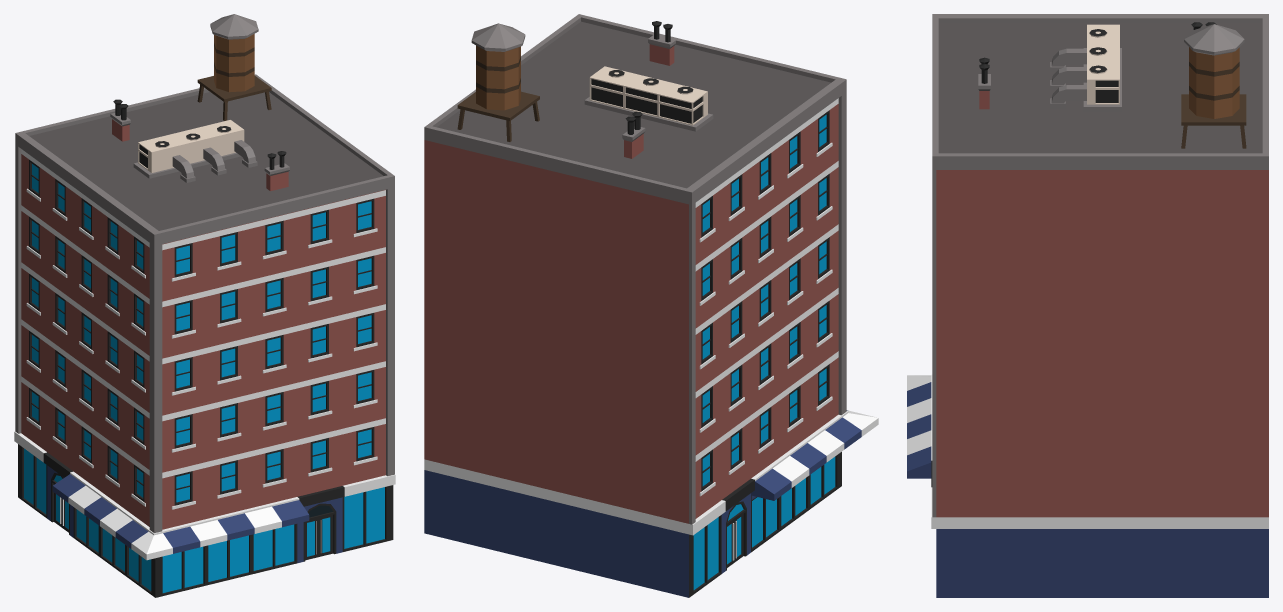
The model's file is Building_28.fbx.
3 renders of one model, left to right at view 1: azimuth 30°, elevation 25°; view 2: azimuth 150°, elevation 25°; view 3: azimuth 270°, elevation 25°, orthographic. The views are drawn at different scales.
Visible parts, largest first — view 1: building-block-5floor-corner, building-block-5floor-corner.001; view 2: building-block-5floor-corner, building-block-5floor-corner.001; view 3: building-block-5floor-corner, building-block-5floor-corner.001.
Boxes of the visible parts, x1=… form: building-block-5floor-corner: x1=15, y1=14, x2=394, y2=421; building-block-5floor-corner.001: x1=14, y1=319, x2=395, y2=597; building-block-5floor-corner: x1=424, y1=14, x2=846, y2=400; building-block-5floor-corner.001: x1=424, y1=288, x2=878, y2=597; building-block-5floor-corner: x1=932, y1=14, x2=1268, y2=382; building-block-5floor-corner.001: x1=907, y1=374, x2=1268, y2=597.
Bounding box in the file's own units: 5.97 × 9.97 × 5.97.
